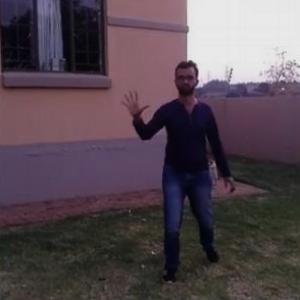follow_hand: (116, 86, 150, 119)
